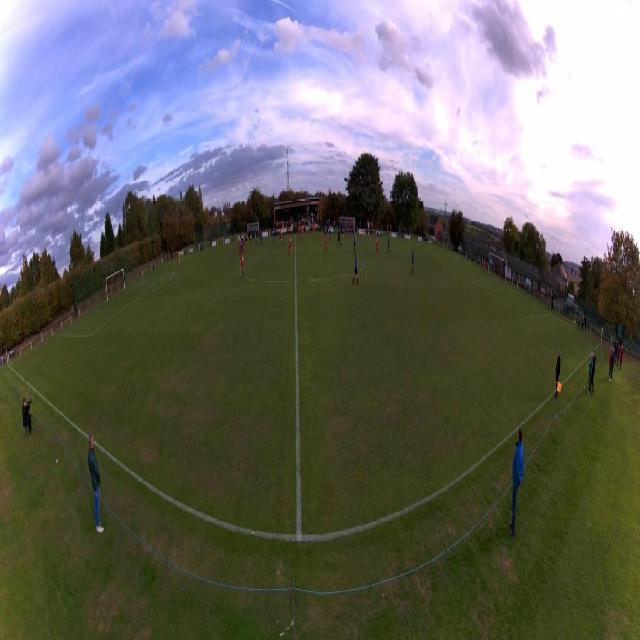ball: (343, 235, 344, 237)
player: (352, 255, 359, 286), (411, 251, 415, 276), (288, 235, 292, 256), (323, 232, 327, 252), (337, 229, 341, 249), (386, 235, 390, 254), (241, 253, 244, 278), (299, 226, 304, 241), (279, 228, 283, 246), (353, 232, 356, 254), (376, 234, 379, 252), (239, 240, 242, 258), (272, 226, 275, 244), (329, 225, 332, 243), (178, 254, 181, 270), (260, 231, 263, 247), (345, 225, 349, 237), (483, 259, 486, 274), (255, 231, 258, 245), (243, 234, 245, 253), (241, 239, 243, 254), (313, 223, 315, 238)
